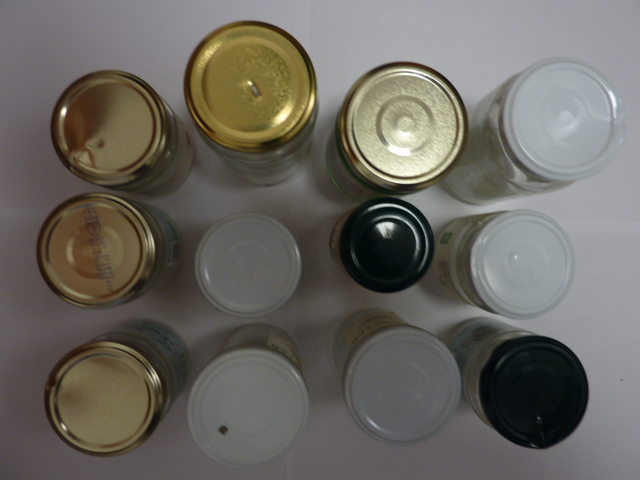damaged: (185, 348, 313, 468), (50, 69, 166, 185)
intact: (34, 194, 155, 307), (193, 213, 301, 316), (343, 197, 435, 293)
